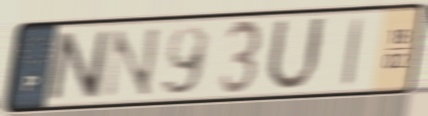3: (216, 16, 265, 99)
9: (158, 23, 216, 97)
I: (339, 13, 367, 89)
N: (46, 27, 112, 104), (100, 24, 164, 101)
U: (262, 15, 329, 95)
